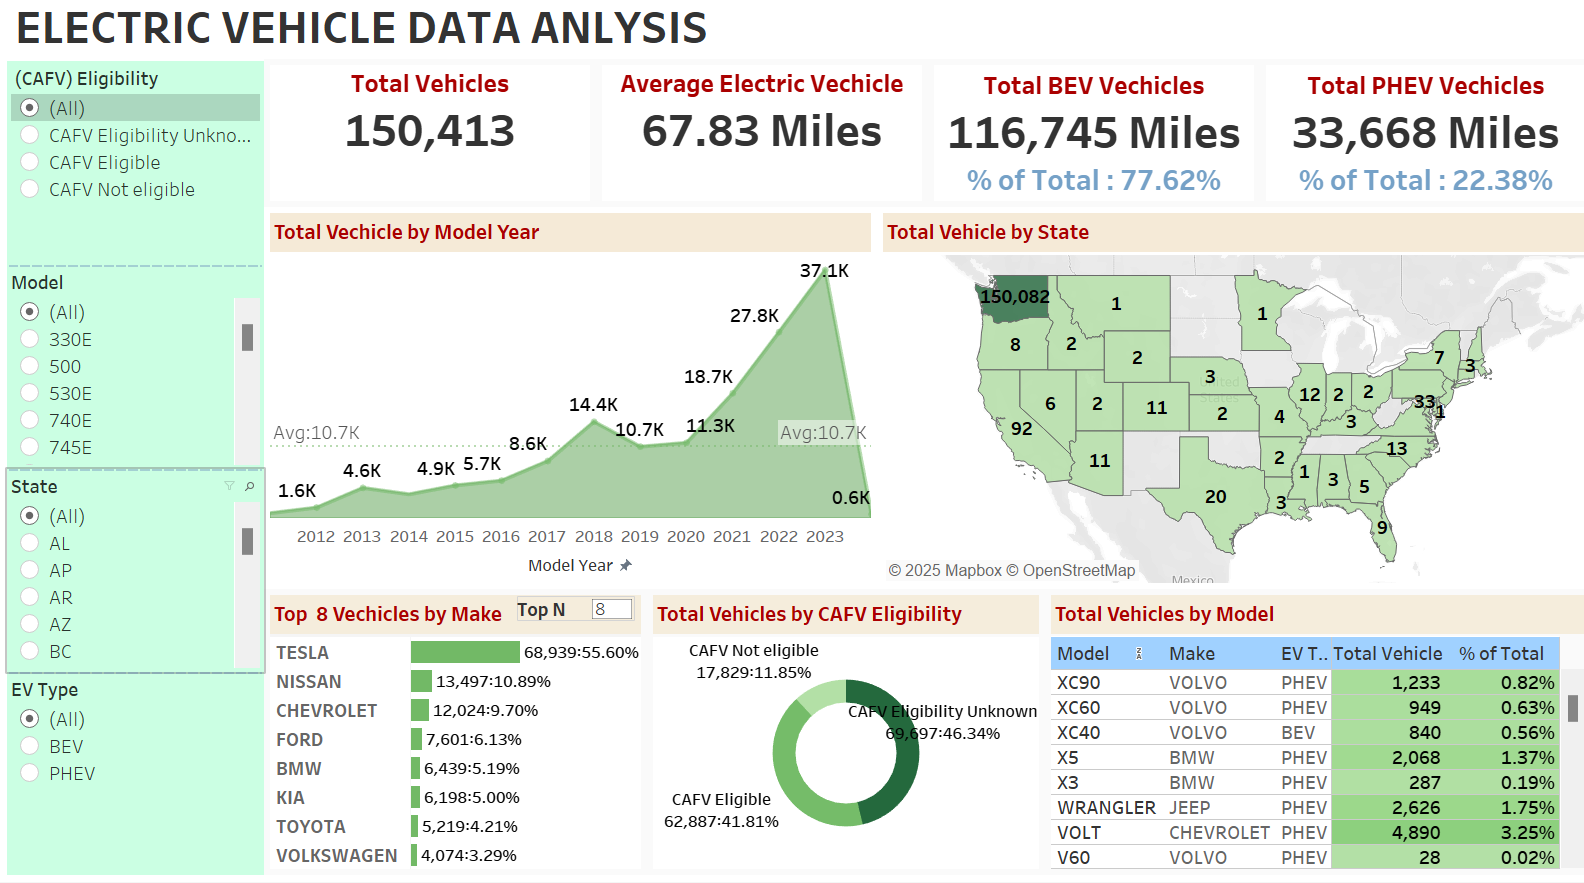

Layout of this report page (visuals, bound fields, positions):
{"tool":"tableau","page":{"name":"Dashboard 1","canvas":[1600,900],"ordinal":0},"visuals":[{"type":"title","box":[8,8,1584,62]},{"type":"worksheet","title":"Total Vehicle","mark":"Automatic","box":[265,70,332,148]},{"type":"worksheet","title":"Average Electric Vehicle","mark":"Automatic","box":[597,70,332,148]},{"type":"worksheet","title":"Total BEV Vehicles","mark":"Automatic","box":[929,70,332,148]},{"type":"worksheet","title":"Total PHEV Vehicles","mark":"Automatic","box":[1261,70,331,148]},{"type":"filter","title":"Total Vechicle by Model Year","param":"[federated.1fvqeth0szr5161bz7gq1159wcfs].[none:Clean Alternative Fuel Vehicle (C","box":[8,72,257,205]},{"type":"worksheet","title":"Total Vechicle by Model Year","mark":"Area","rows":["Calculation_2545096770953256960","Calculation_2545096770953256960"],"cols":["Model Year"],"box":[265,218,613.5,382]},{"type":"worksheet","title":"Total Vehicle by State","mark":"Multipolygon","box":[878.5,218,713.5,382]},{"type":"filter","title":"Total Vechicle by Model Year","param":"[federated.1fvqeth0szr5161bz7gq1159wcfs].[none:Electric Vehicle Type:nk]","box":[8,277,257,205]},{"type":"filter","title":"Total Vechicle by Model Year","param":"[federated.1fvqeth0szr5161bz7gq1159wcfs].[none:Model:nk]","box":[8,482,257,205]},{"type":"worksheet","title":"Top 10 Vechicles by Make","mark":"Automatic","rows":["Make"],"cols":["Calculation_2545096770953256960"],"box":[265,600,383,292]},{"type":"worksheet","title":"Total Vehicles by CAFV Eligibility","mark":"Pie","rows":["Calculation_2545096771034927117","Calculation_2545096771034927117"],"box":[648,600,398,292]},{"type":"worksheet","title":"Total Vehicles by Model","mark":"Square","rows":["Model","Make","Electric Vehicle Type"],"box":[1046,600,546,292]},{"type":"parameter","param":"[Parameters].[Parameter 1]","box":[518,613,118,25]},{"type":"filter","title":"Total Vechicle by Model Year","param":"[federated.1fvqeth0szr5161bz7gq1159wcfs].[none:State:nk]","box":[8,687,257,205]}]}

Visuals, with their boxes in screenshot pixels (x1, y1, x2, y2), scaled from the page's 1600x900 canvas onto the 1584x883 screenshot:
title: [8,8,1576,69]
"Total Vehicle" worksheet: [262,69,591,214]
"Average Electric Vehicle" worksheet: [591,69,920,214]
"Total BEV Vehicles" worksheet: [920,69,1248,214]
"Total PHEV Vehicles" worksheet: [1248,69,1576,214]
"Total Vechicle by Model Year" filter: [8,71,262,272]
"Total Vechicle by Model Year" worksheet (Area marks): [262,214,870,589]
"Total Vehicle by State" worksheet (Multipolygon marks): [870,214,1576,589]
"Total Vechicle by Model Year" filter: [8,272,262,473]
"Total Vechicle by Model Year" filter: [8,473,262,674]
"Top 10 Vechicles by Make" worksheet: [262,589,642,875]
"Total Vehicles by CAFV Eligibility" worksheet (Pie marks): [642,589,1036,875]
"Total Vehicles by Model" worksheet (Square marks): [1036,589,1576,875]
parameter: [513,601,630,626]
"Total Vechicle by Model Year" filter: [8,674,262,875]
